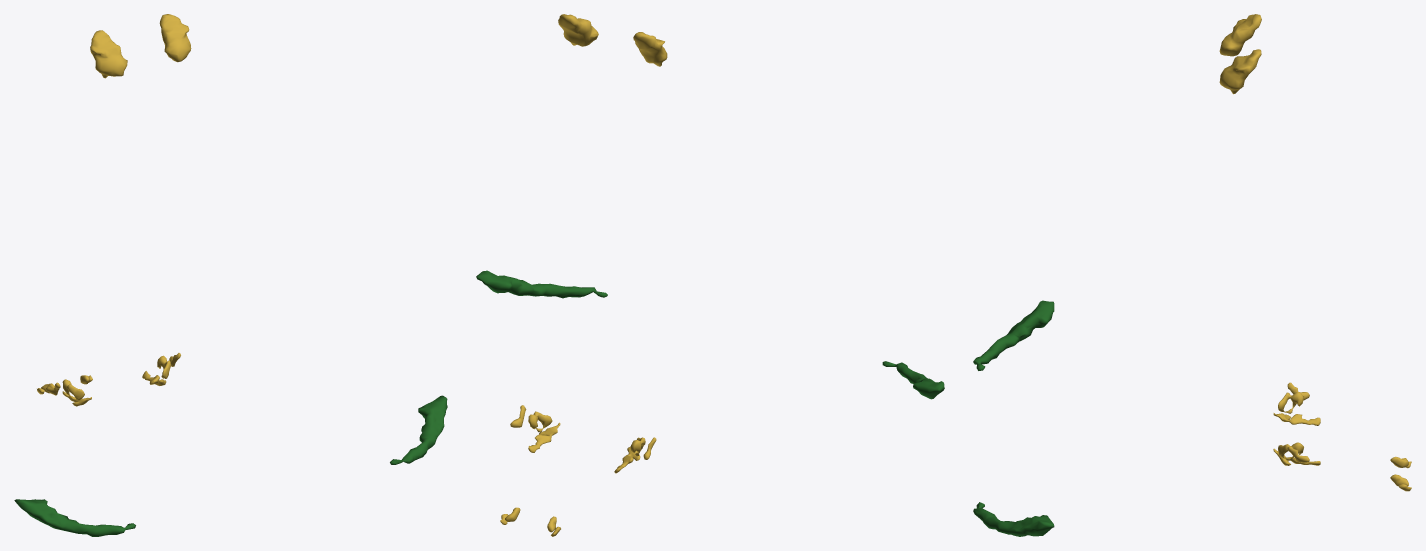
File: extracranial-nextbrain.glb
The picture shows the model from 3 angles, left to right: view 1: azimuth 30°, elevation 25°; view 2: azimuth 150°, elevation 25°; view 3: azimuth 270°, elevation 25°; orthographic projection. The views are drawn at different scales.
Visible parts, largest first — view 1: extracranial-nextbrain; view 2: extracranial-nextbrain; view 3: extracranial-nextbrain.
Part boxes in pixels (box(x1,y1,x2,y2)): extracranial-nextbrain: box(14, 14, 447, 536); extracranial-nextbrain: box(476, 14, 944, 536); extracranial-nextbrain: box(973, 14, 1411, 536).
Bounding box in the file's own units: 66.12 × 61.37 × 54.68.
